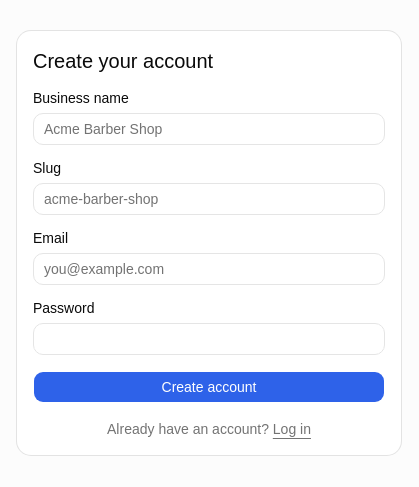
Test: Register page › shows "This URL is reserved" on slug field for slug_reserved
In the field labelled "Business name": (209,129) x1=33 y1=113 x2=385 y2=145, type "API Services"
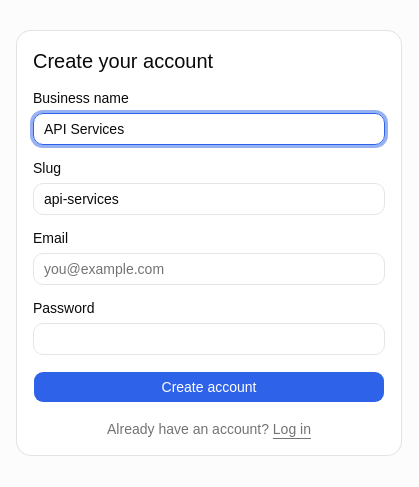
Replace the text in the field labelled "Slug" with "api": (209,199) x1=33 y1=183 x2=385 y2=215
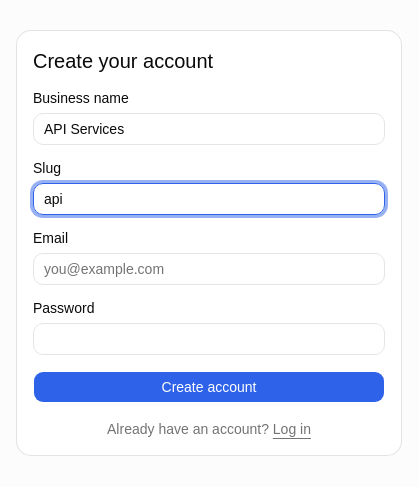
In the field labelled "Email": (209,269) x1=33 y1=253 x2=385 y2=285, type "owner@test.com"
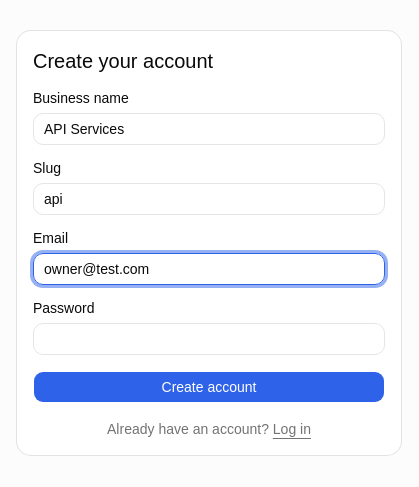
In the password field labelled "Password": (209,339) x1=33 y1=323 x2=385 y2=355, type "password123"
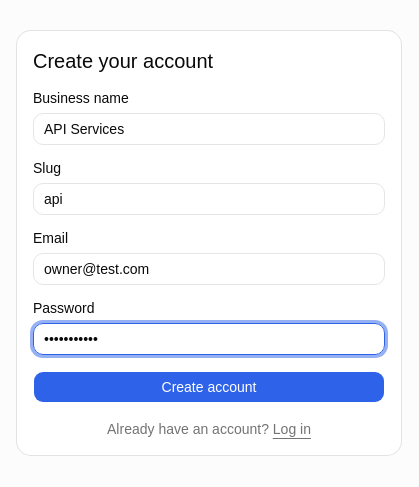
Click the button "Create account": (209,387) x1=33 y1=371 x2=385 y2=403
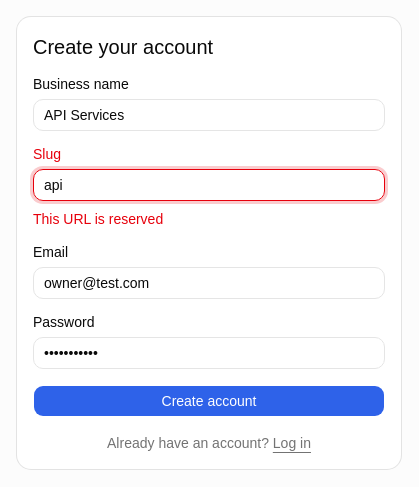
expect the text "This URL is reserved" is shown: met, box x1=33 y1=211 x2=163 y2=227
